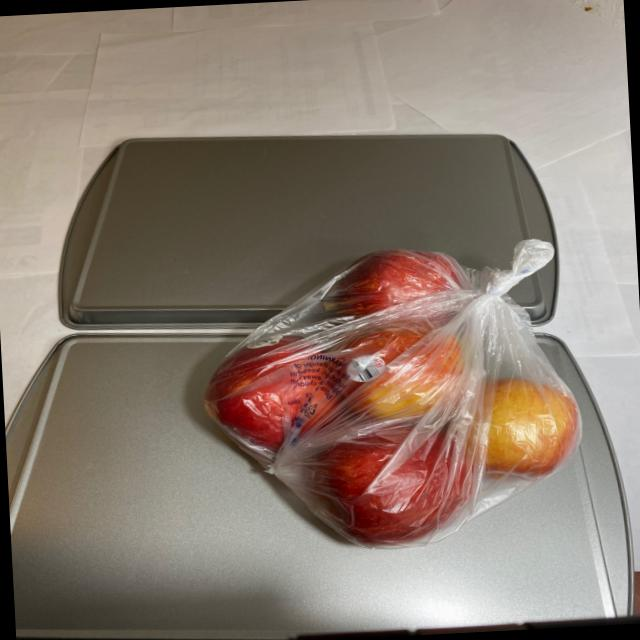apple: (186, 240, 596, 554)
